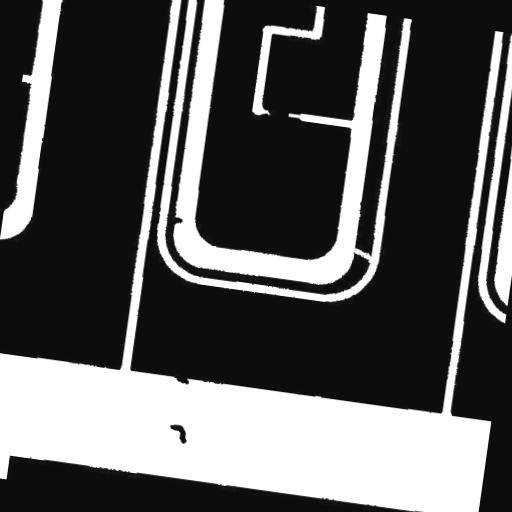copper: (158, 416, 196, 452)
open: (342, 239, 383, 272)
short: (258, 97, 298, 128)
spur: (164, 364, 198, 393), (163, 208, 191, 234)
